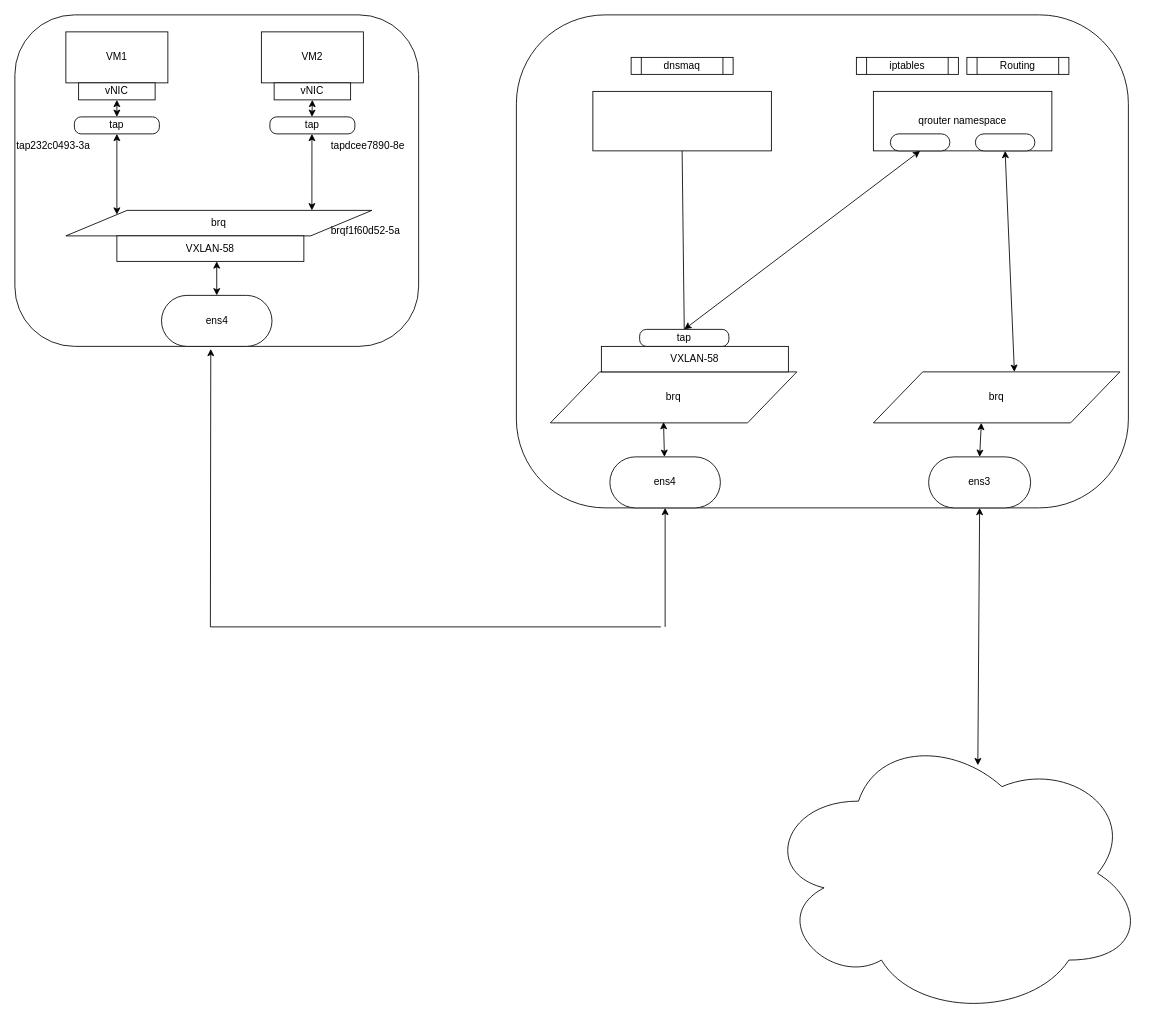
Some shapes in this 1160 by 1033 pixel diagram are drawn without their labels. The shapes that lost their labels are listed below. From the top down, each one's centre as x and y in pixels, then its label:
At point (681, 121): "qDHCP namespace".
At point (920, 142): "qr".
At point (1005, 142): "qg".
At point (953, 873): "Internet".
